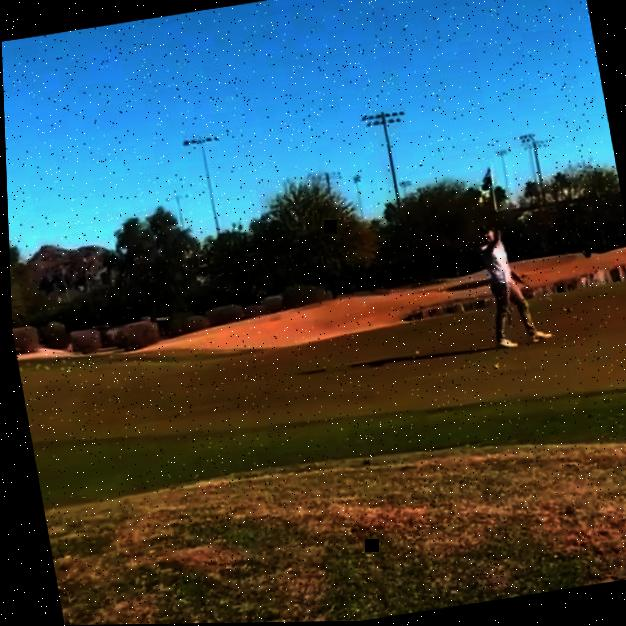ClubHead: (558, 307, 570, 315)
GolfBall: (489, 365, 497, 371), (410, 351, 416, 356)
